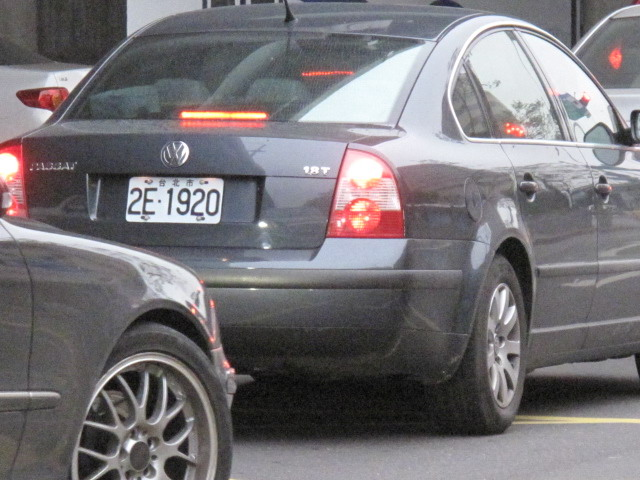plate: (125, 173, 228, 228)
